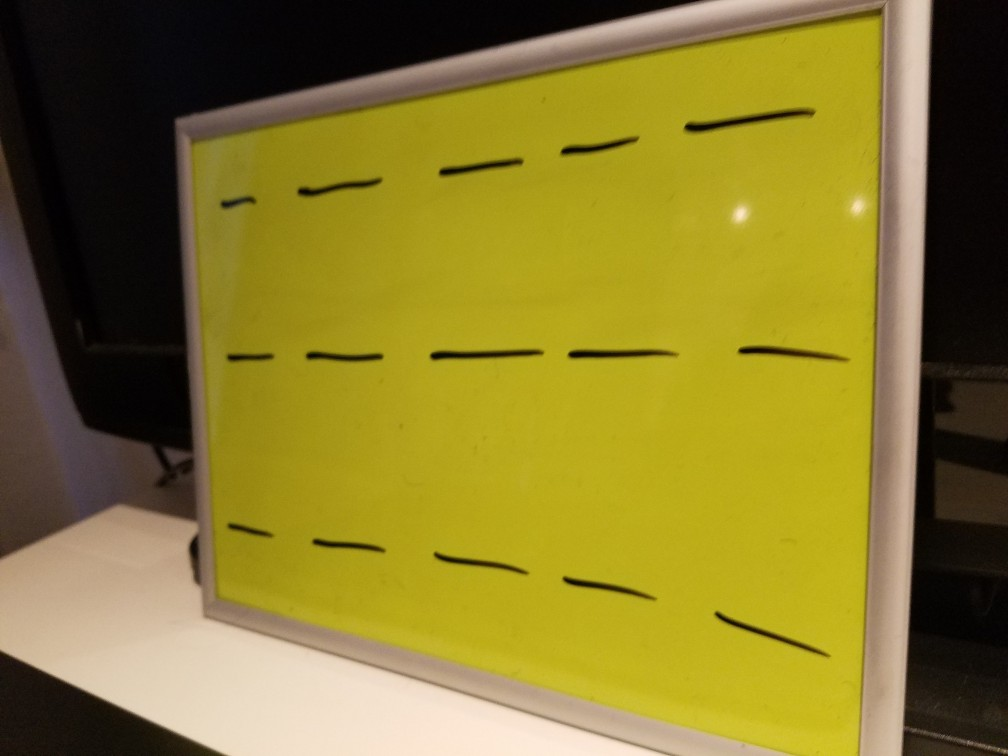-: (705, 592, 847, 679), (710, 328, 858, 389), (566, 329, 689, 388), (673, 100, 821, 148), (426, 324, 546, 381), (559, 556, 668, 617), (430, 533, 535, 594), (530, 124, 662, 169), (421, 147, 530, 193), (306, 521, 401, 568), (292, 168, 391, 209), (304, 334, 386, 381), (224, 510, 280, 552), (201, 185, 264, 216), (216, 341, 276, 371)
